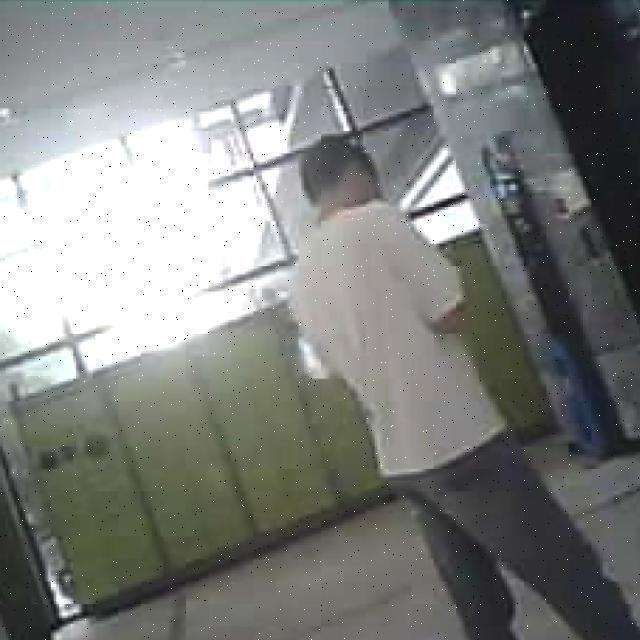person: (290, 133, 640, 640)
